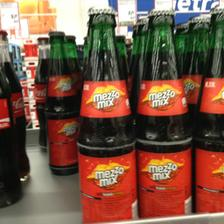Soda: (76, 4, 136, 224), (136, 6, 192, 216), (193, 6, 223, 210), (43, 30, 76, 170)
